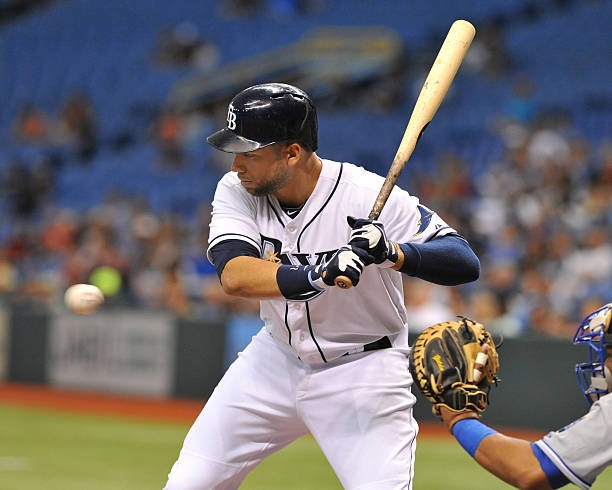bita: (327, 20, 480, 286)
